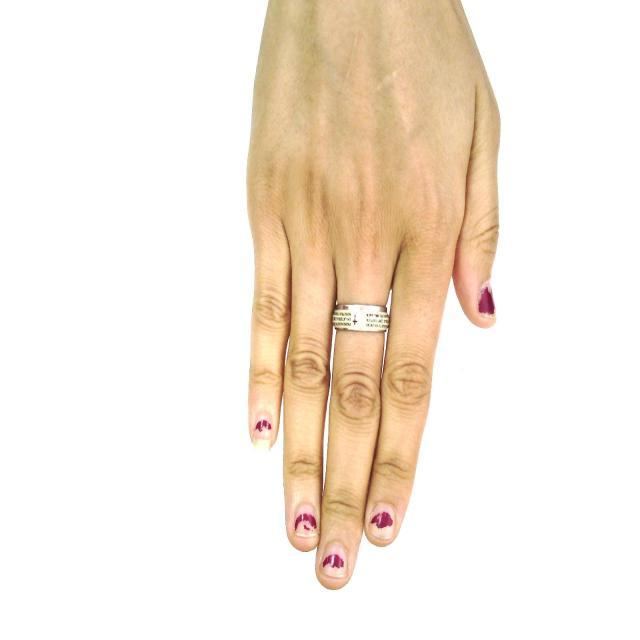Fingernail: (369, 504, 394, 539), (322, 543, 346, 578), (293, 504, 316, 538), (253, 417, 272, 448), (478, 283, 495, 316)
